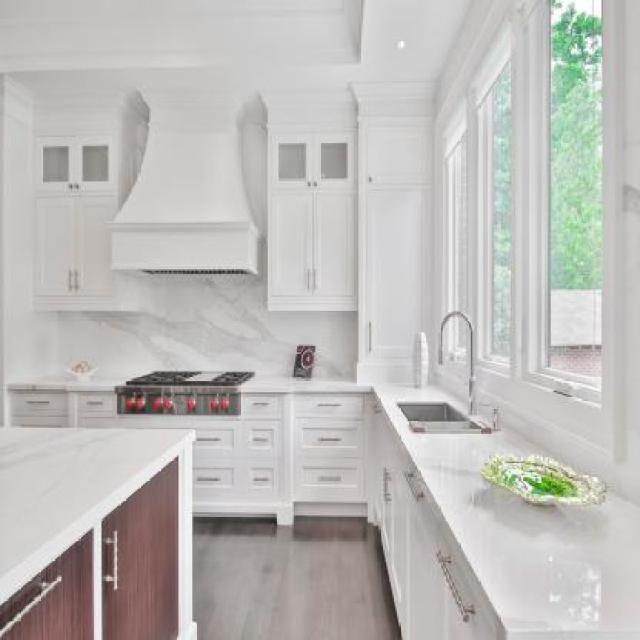floor: (192, 516, 403, 640)
